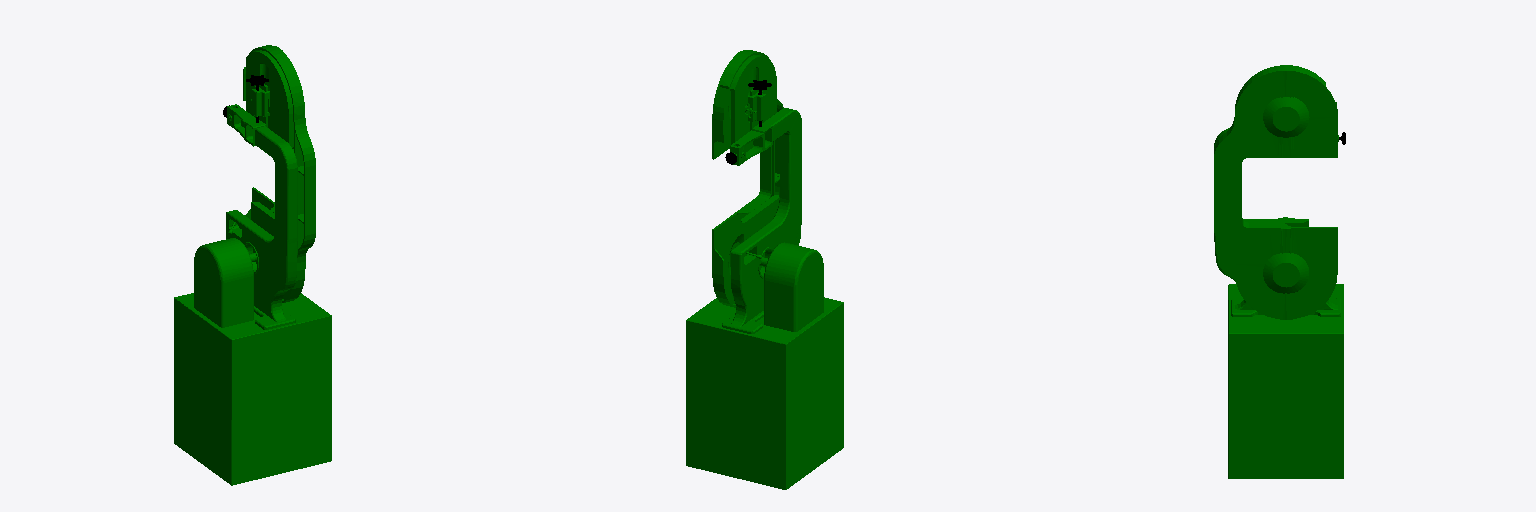
The model's file is chassis.obj.
The picture shows the model from 3 angles: view 1: azimuth 30°, elevation 25°; view 2: azimuth 150°, elevation 25°; view 3: azimuth 270°, elevation 25°; orthographic projection.
Parts seen in each view (by area): view 1: object_1; view 2: object_1; view 3: object_1.
Part boxes in pixels (x1,y1,x2,y2): object_1: (174,45,331,485); object_1: (686,50,843,489); object_1: (1214,65,1343,478).
Size of the model in its own units: 18 by 68.07 by 20.56.